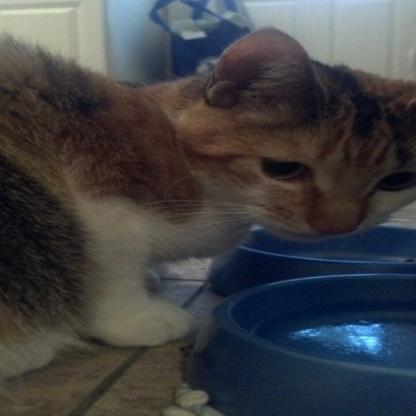Target: (0, 22, 414, 383)
